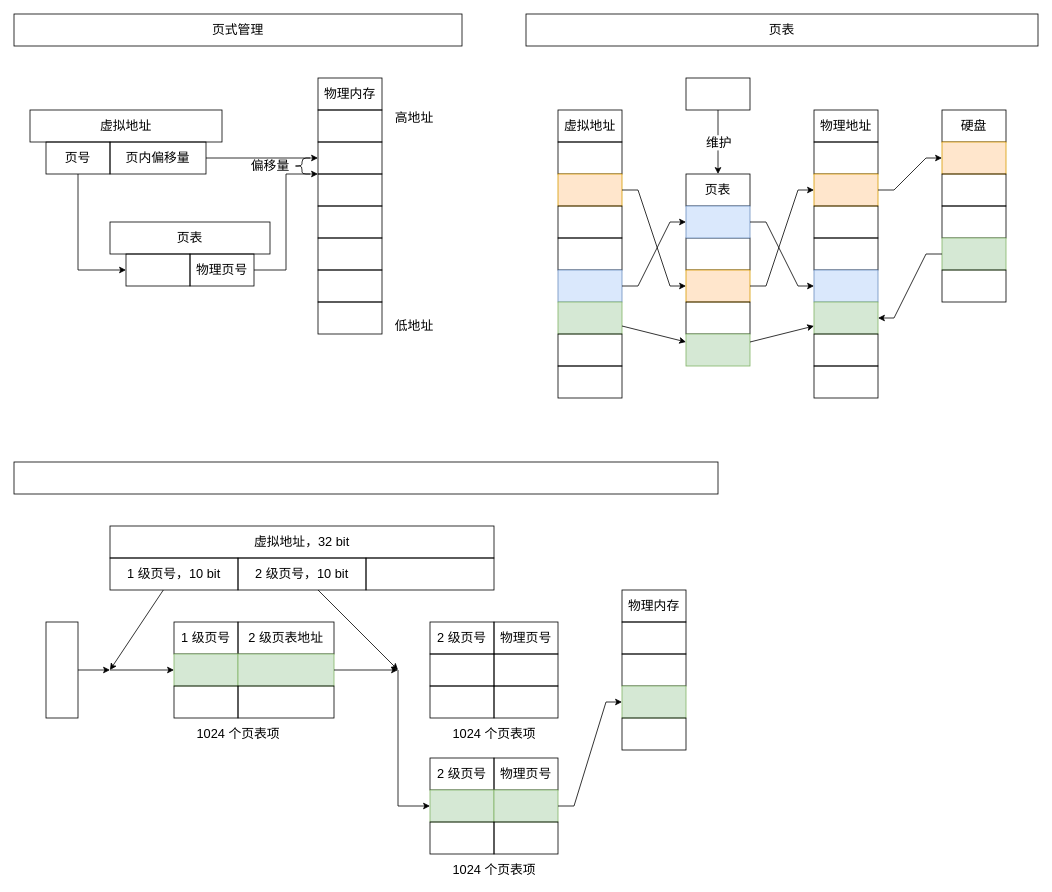
The diagram is 1052 pixels wide and 892 high, and some of its shapes have lost their labels. The centre of each missing label's shape, as x and y in pixels:
MMU: point (717, 93)
多级页表: point (365, 477)
虚拟页号: point (157, 269)
页 表 寄 存 器: point (61, 669)
页内偏移，12 bit: point (429, 573)
